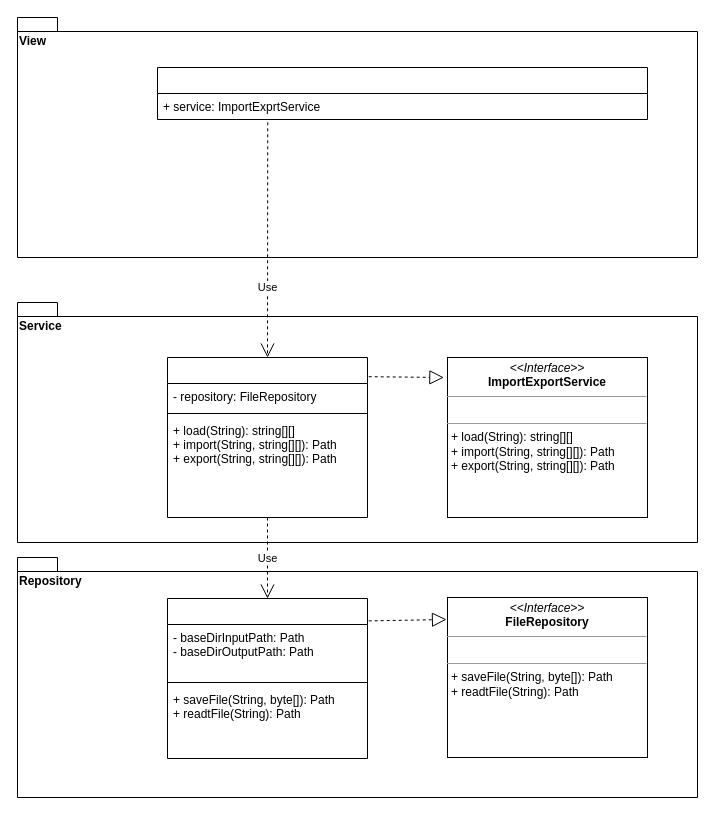
Some shapes in this 715 by 815 pixel diagram are drawn without their labels. Each missing label, with the box of its shape:
FileRepository: (166, 598, 368, 758)
ImportExportServiceImpl: (166, 356, 368, 518)
UserGUI: (156, 66, 648, 120)
